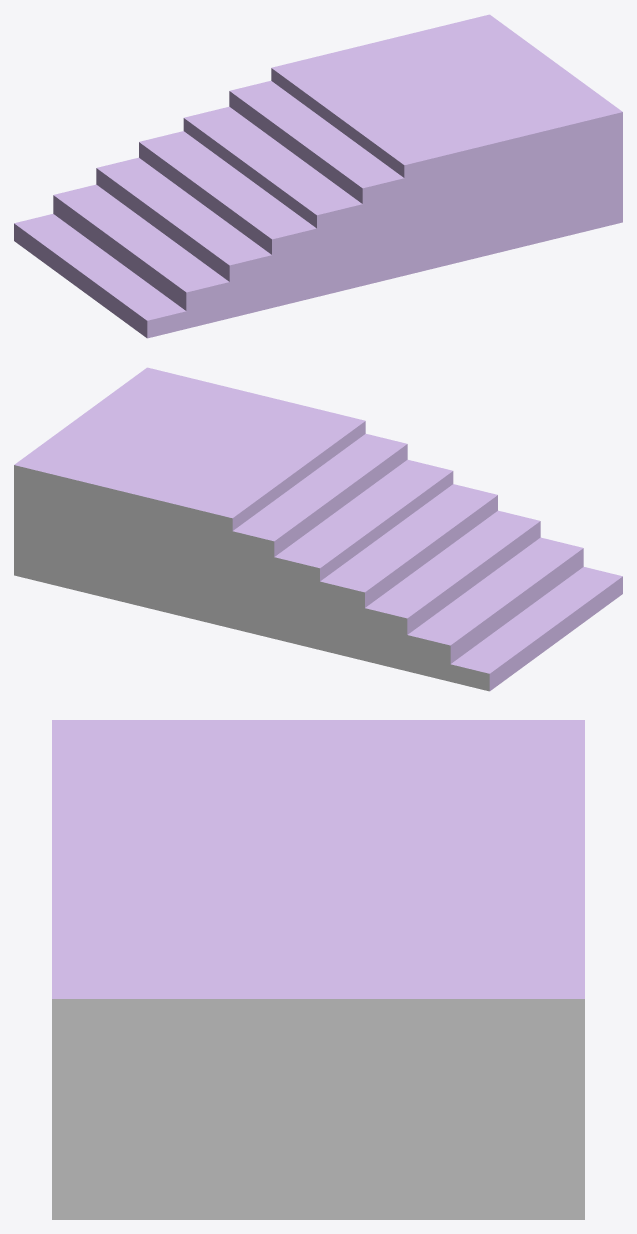
The picture shows the model from 3 angles, top to bottom: view 1: azimuth 30°, elevation 25°; view 2: azimuth 150°, elevation 25°; view 3: azimuth 270°, elevation 25°; orthographic projection. The views are drawn at different scales.
Visible parts, largest first — view 1: __UTF_8_Q__E5_B9_B3_E5_8F_B01_2Eskp_____filename__UTF_8___E5; view 2: __UTF_8_Q__E5_B9_B3_E5_8F_B01_2Eskp_____filename__UTF_8___E5; view 3: __UTF_8_Q__E5_B9_B3_E5_8F_B01_2Eskp_____filename__UTF_8___E5.
Part boxes in pixels (box(x1,y1,x2,y2)): __UTF_8_Q__E5_B9_B3_E5_8F_B01_2Eskp_____filename__UTF_8___E5: box(14, 14, 622, 338); __UTF_8_Q__E5_B9_B3_E5_8F_B01_2Eskp_____filename__UTF_8___E5: box(14, 367, 622, 691); __UTF_8_Q__E5_B9_B3_E5_8F_B01_2Eskp_____filename__UTF_8___E5: box(52, 720, 584, 1219).
Size of the model in its own units: 790 by 175 by 383.
